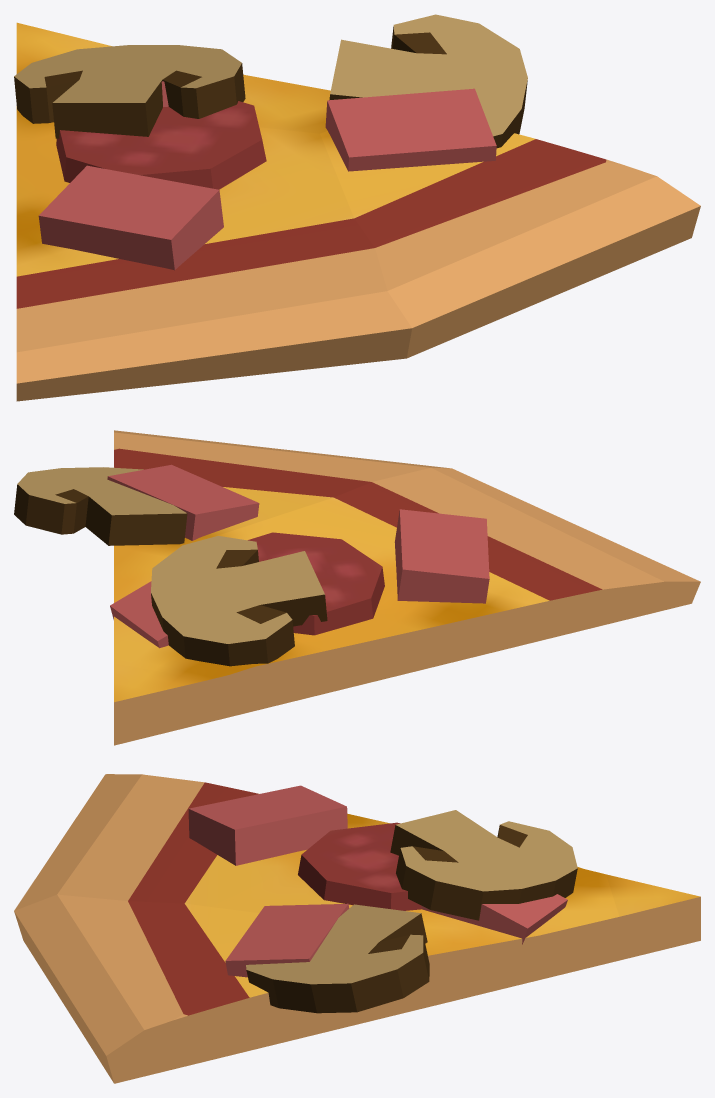
Rendered from SM_Prop_Food_Pizza_Cooked_08.05.obj.
3 views of the same model, one above another, from view 1: azimuth 30°, elevation 25°; view 2: azimuth 150°, elevation 25°; view 3: azimuth 270°, elevation 25° (orthographic). The views are drawn at different scales.
Visible parts, largest first — view 1: SM_Prop_Food_Pizza_Cooked_08.05_0; view 2: SM_Prop_Food_Pizza_Cooked_08.05_0; view 3: SM_Prop_Food_Pizza_Cooked_08.05_0.
Part boxes in pixels (x1,y1,x2,y2): SM_Prop_Food_Pizza_Cooked_08.05_0: (14,14,700,401); SM_Prop_Food_Pizza_Cooked_08.05_0: (14,430,700,745); SM_Prop_Food_Pizza_Cooked_08.05_0: (14,774,700,1083).
Size of the model in its own units: 0.2804 by 0.044 by 0.2803.
Materials: 1 (1 with a texture image).
